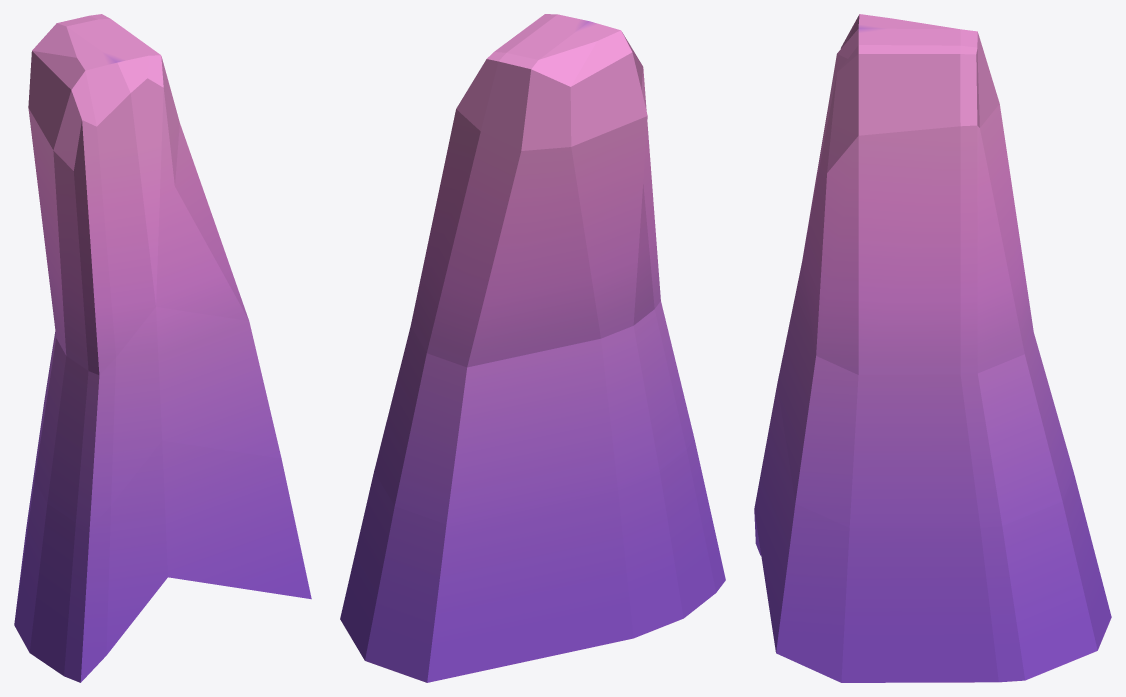
Rendered from Terrain_3.FBX.
3 renders of one model, left to right at view 1: azimuth 30°, elevation 25°; view 2: azimuth 150°, elevation 25°; view 3: azimuth 270°, elevation 25°, orthographic.
Visible parts, largest first — view 1: Object001; view 2: Object001; view 3: Object001.
Part boxes in pixels (x1,y1,x2,y2): Object001: [14, 14, 311, 682]; Object001: [340, 14, 725, 682]; Object001: [754, 14, 1111, 682].
Size of the model in its own units: 2116 by 4449 by 2520.
Materials: 1 (1 with a texture image).
